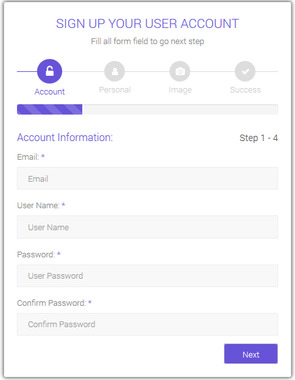_form_: (1, 1, 295, 380)
button: (223, 342, 280, 365)
field: (16, 212, 280, 240), (16, 261, 279, 289), (16, 165, 278, 192), (14, 311, 281, 336)
field_with_label: (14, 151, 279, 194), (14, 200, 283, 242), (15, 250, 283, 291), (12, 299, 283, 337)
